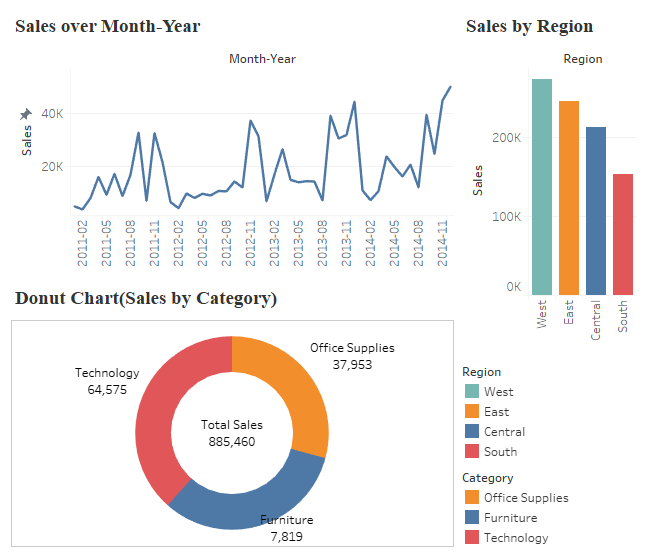

Layout of this report page (visuals, bound fields, positions):
{"tool":"tableau","page":{"name":"Dashboard 1","canvas":[650,860],"ordinal":0},"visuals":[{"type":"worksheet","title":"Sheet 1","mark":"Line","rows":["Sales"],"cols":["Month-Year"],"box":[8,12.3,451,417.7]},{"type":"worksheet","title":"Sheet 2","mark":"Automatic","rows":["Sales"],"cols":["Region"],"box":[459,12.3,183,540.6]},{"type":"worksheet","title":"Sheet 3","mark":"Pie","rows":["Calculation_106960511519186952","Calculation_106960511519186952"],"box":[8,430,451,417.7]},{"type":"legend","title":"Sheet 2","param":"[federated.0oy7u771qjzz221fh3wr91djzoom].[none:Region:nk]","box":[459,552.8,183,162.8]},{"type":"legend","title":"Sheet 3","param":"[federated.0oy7u771qjzz221fh3wr91djzoom].[none:Category:nk]","box":[459,715.6,183,132.1]}]}

Visuals, with their boxes in screenshot pixels (x1, y1, x2, y2):
"Sheet 1" worksheet (Line marks): x1=244, y1=28, x2=530, y2=293
"Sheet 2" worksheet: x1=530, y1=28, x2=646, y2=371
"Sheet 3" worksheet (Pie marks): x1=244, y1=293, x2=530, y2=551
"Sheet 2" legend: x1=530, y1=371, x2=646, y2=474
"Sheet 3" legend: x1=530, y1=474, x2=646, y2=551
